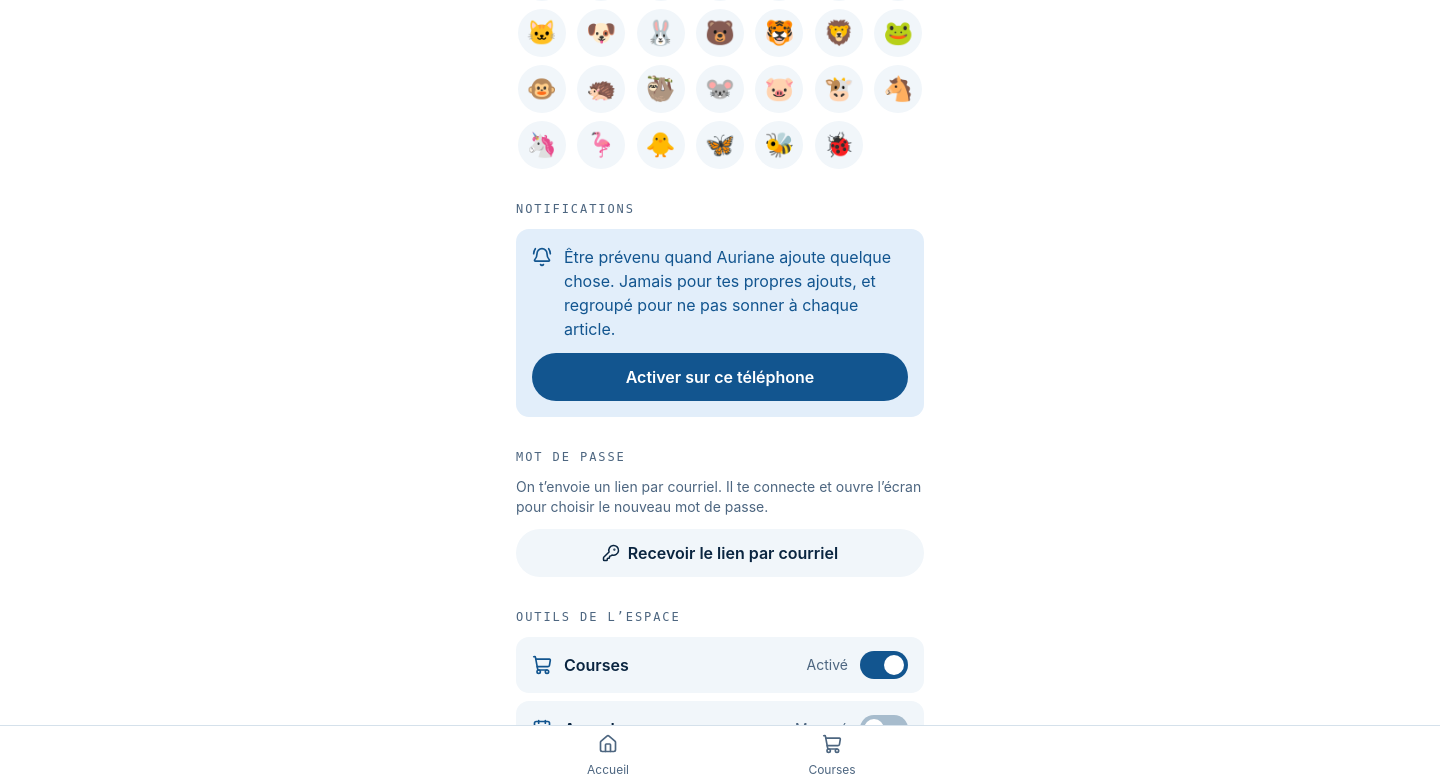
Test: les notifications › ne demandent la permission qu’au toucher, puis abonnent ce téléphone
(page scrolled)
Check: the text "Être prévenu quand Auriane ajoute quelque chose" is shown, box [564, 245, 908, 341]
Click the button "Activer sur ce téléphone": (720, 377) [532, 353, 908, 401]
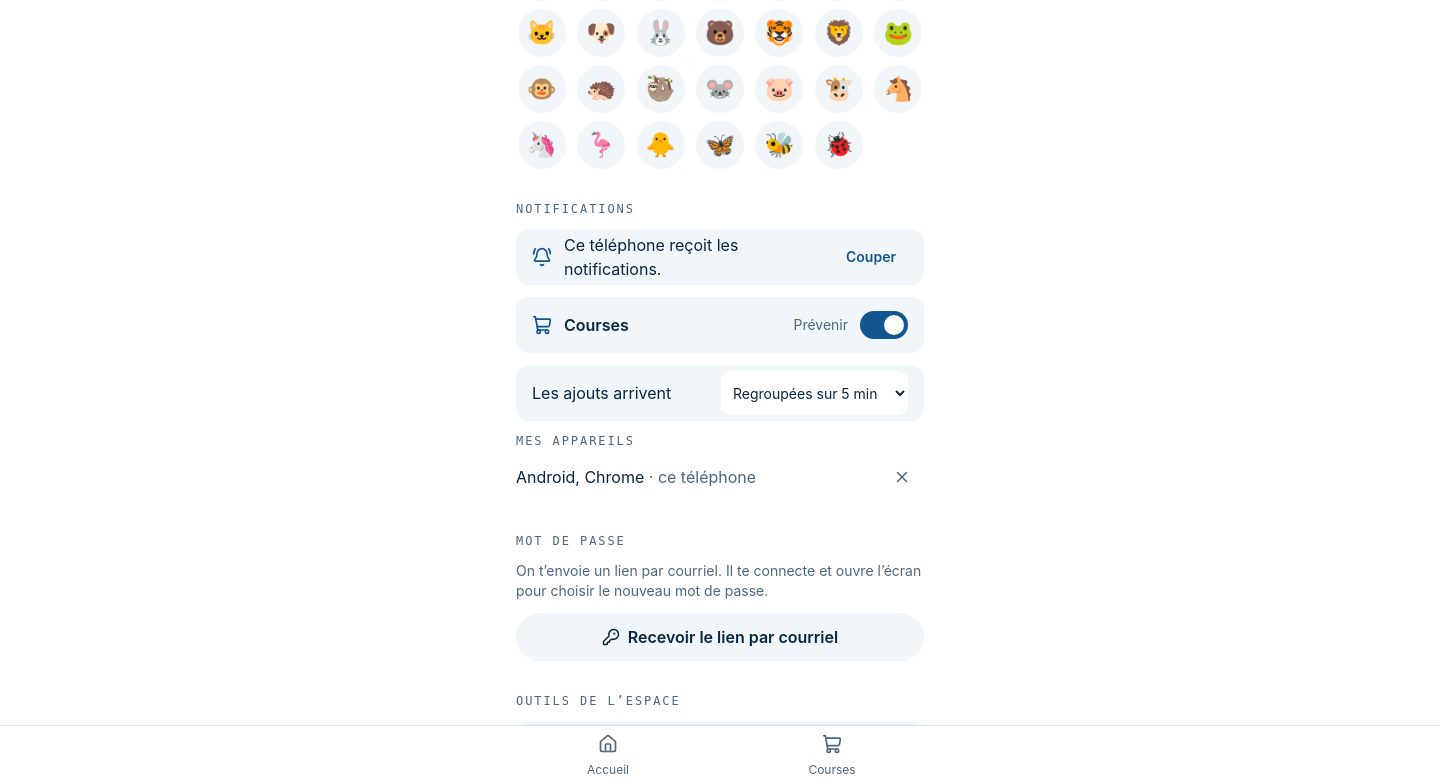
Check: the text "Ce téléphone reçoit les notifications." is shown, box [564, 235, 738, 279]
Check: the text "· ce téléphone" is shown, box [644, 467, 756, 487]
